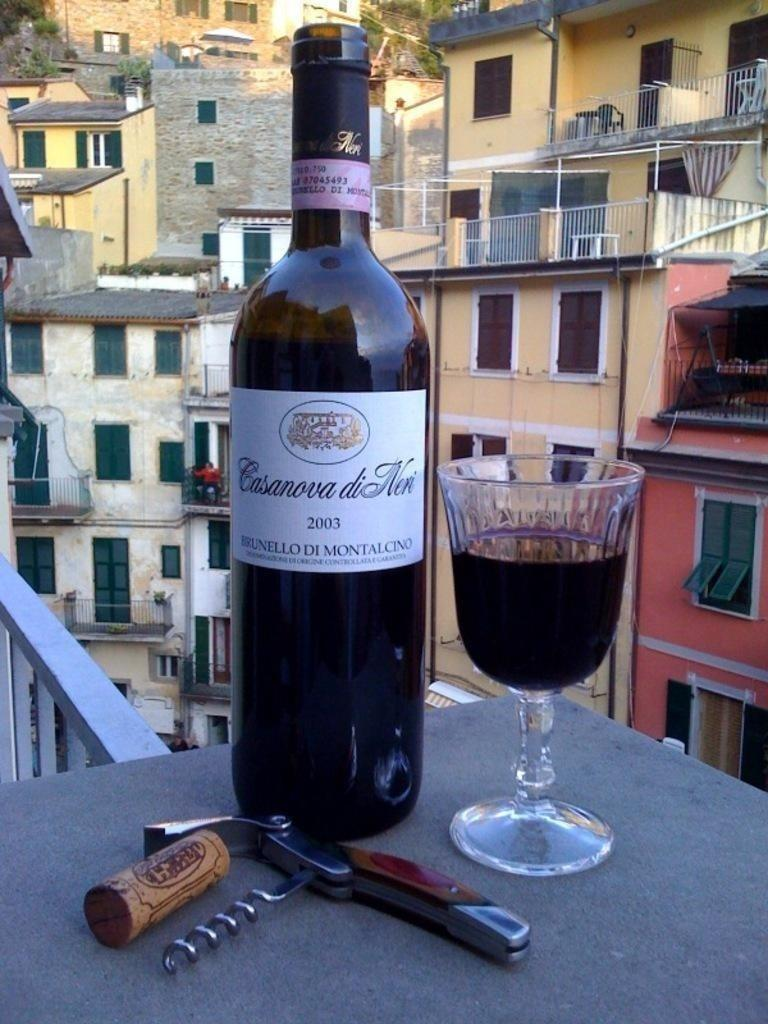bottle-glass: (220, 22, 441, 833)
glass-wine: (440, 440, 647, 884)
